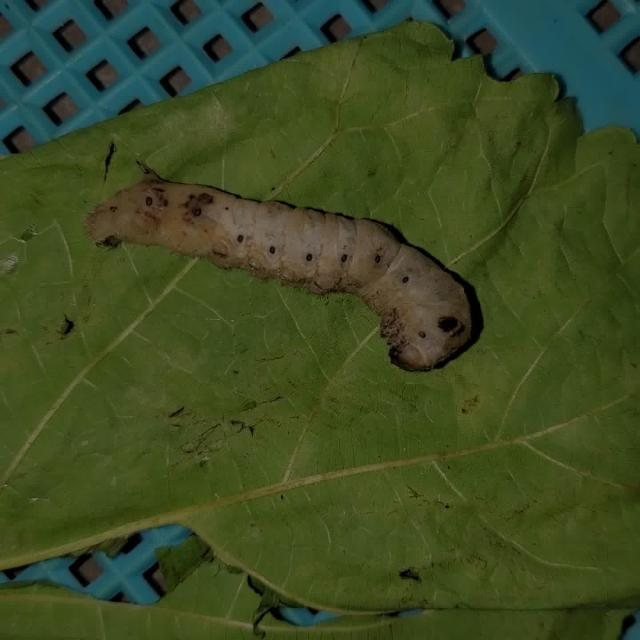Grasserie: (77, 144, 490, 384)
